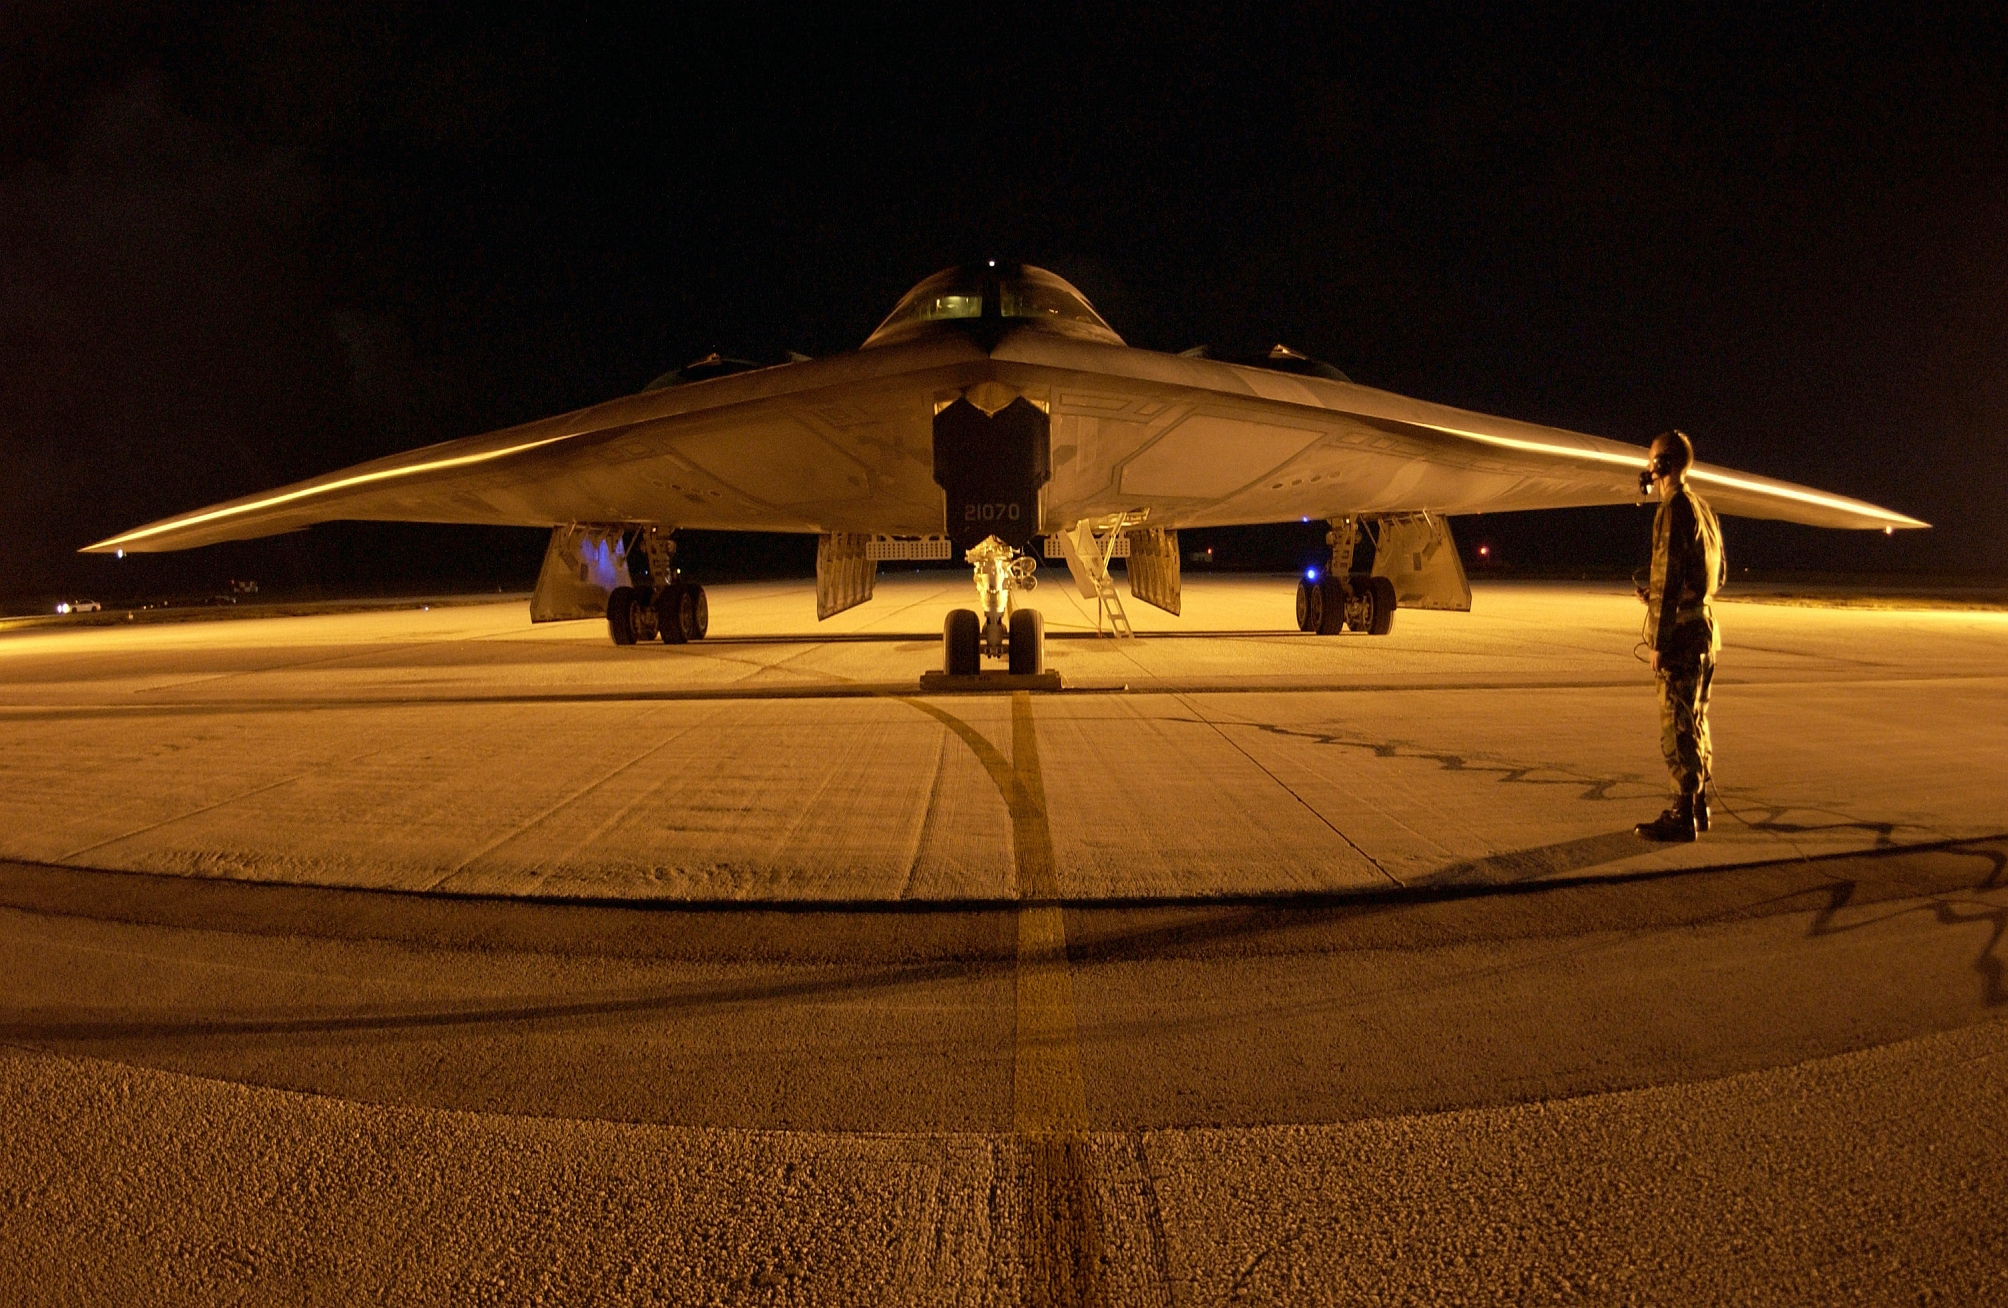B2: (76, 255, 1932, 674)
